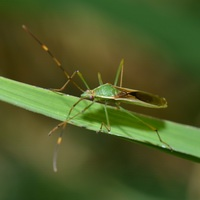insect: (21, 25, 166, 135)
